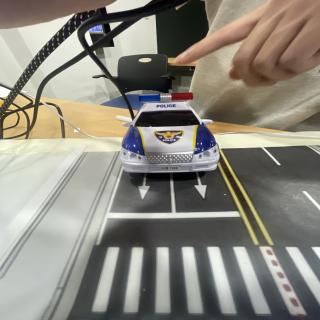Police_car: (121, 93, 219, 173)
